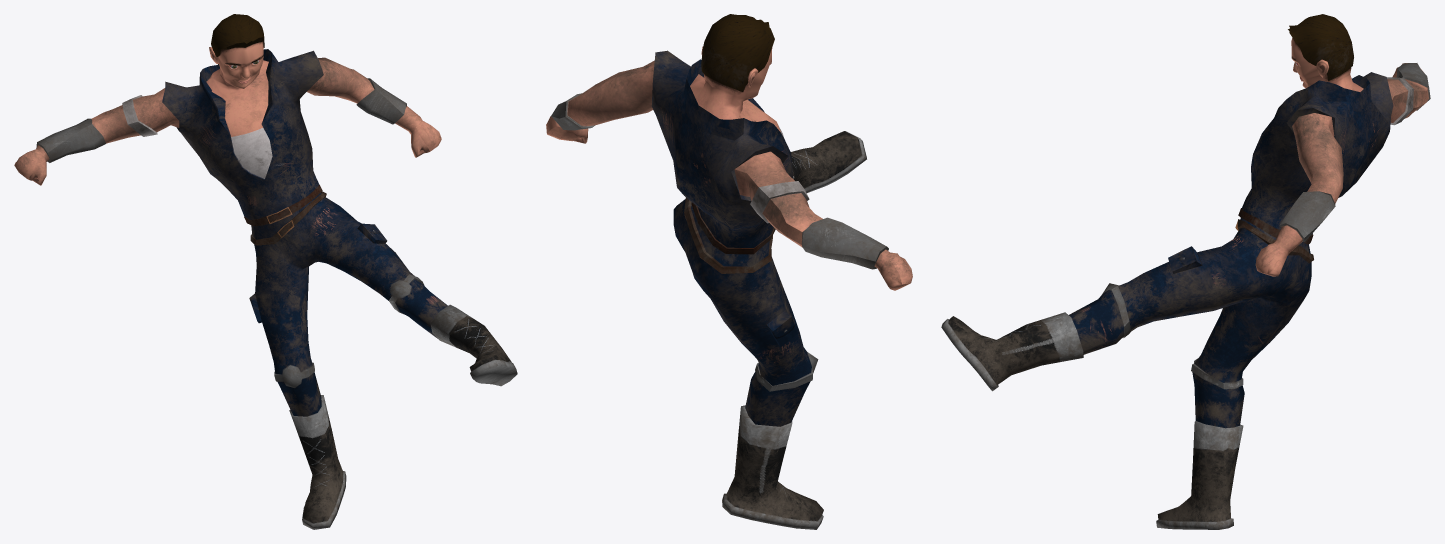
File: Anim_ataque_f3_jugador.0029.obj
3 renders of one model, left to right at view 1: azimuth 30°, elevation 25°; view 2: azimuth 150°, elevation 25°; view 3: azimuth 270°, elevation 25°, orthographic. The views are drawn at different scales.
Parts seen in each view (by area): view 1: polySurface1; view 2: polySurface1; view 3: polySurface1.
Boxes of the visible parts, x1,y1,x2,y2 form: polySurface1: (14,14,517,529); polySurface1: (546,14,912,529); polySurface1: (941,14,1430,529).
Size of the model in its own units: 7.67 by 9.43 by 8.29.
